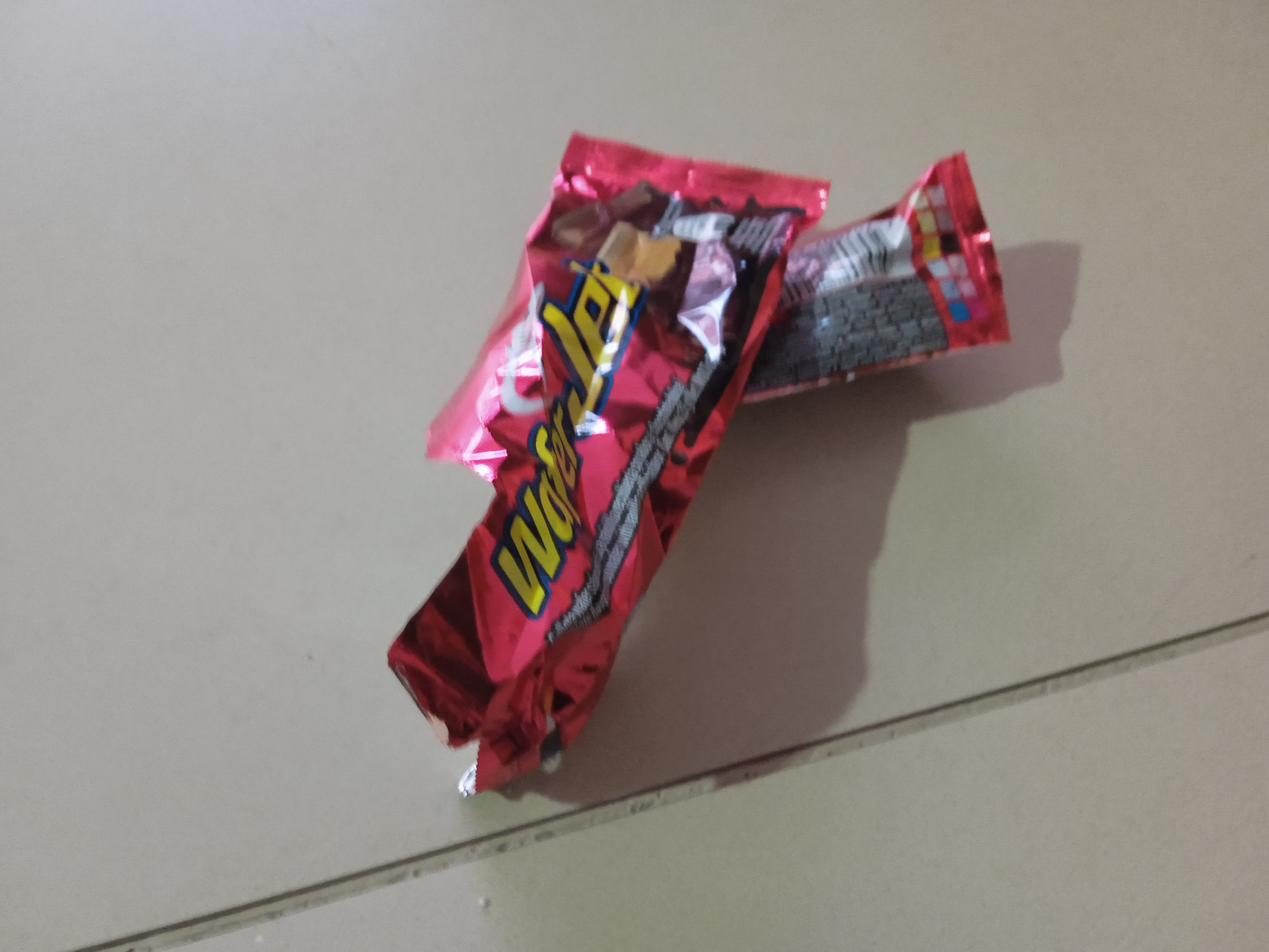plastic: (300, 126, 1068, 841)
